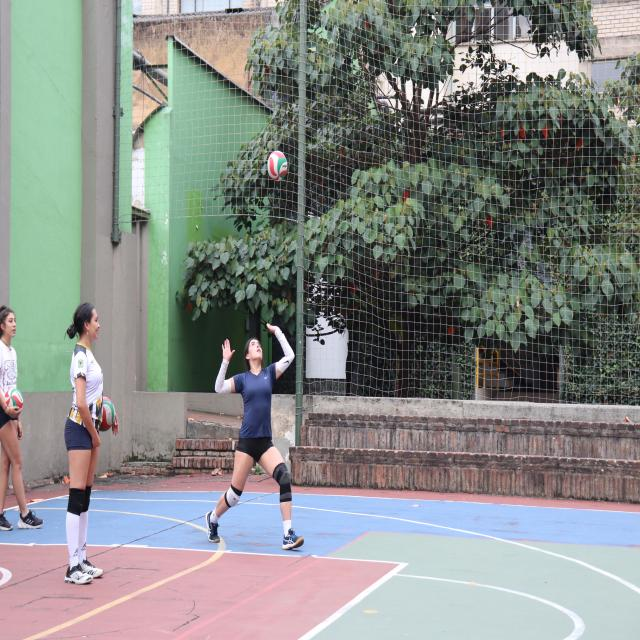volleyball: (98, 396, 115, 432), (267, 151, 287, 181), (4, 388, 24, 408)
